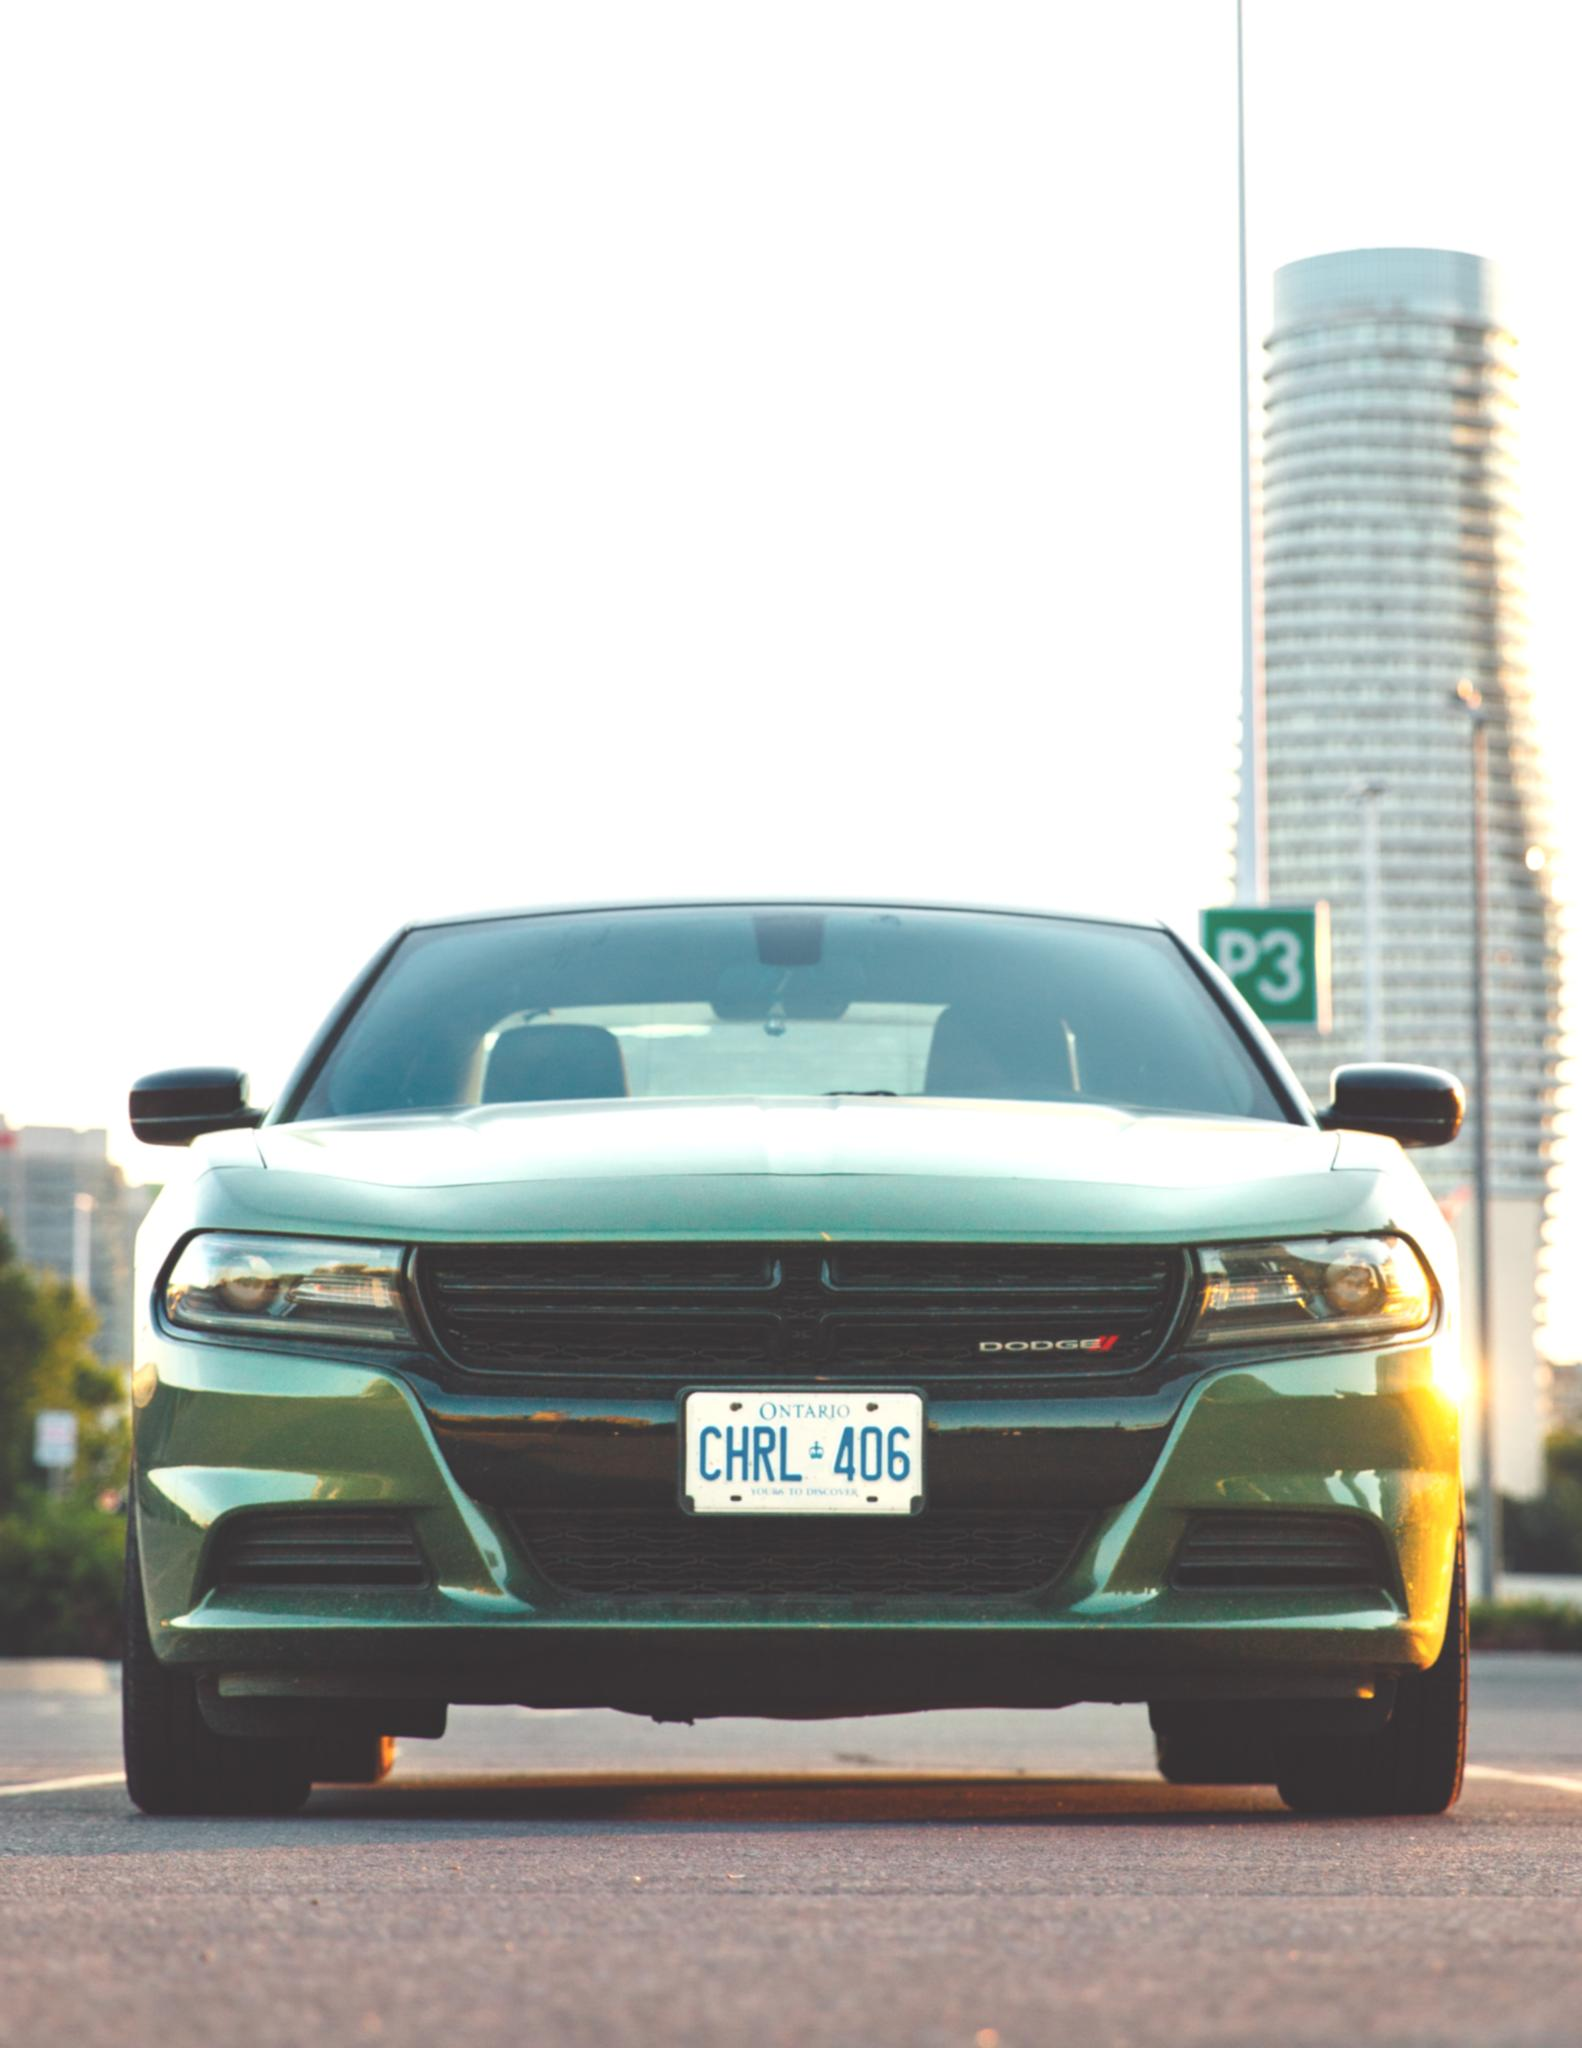dodge: (951, 1304, 1148, 1384)
